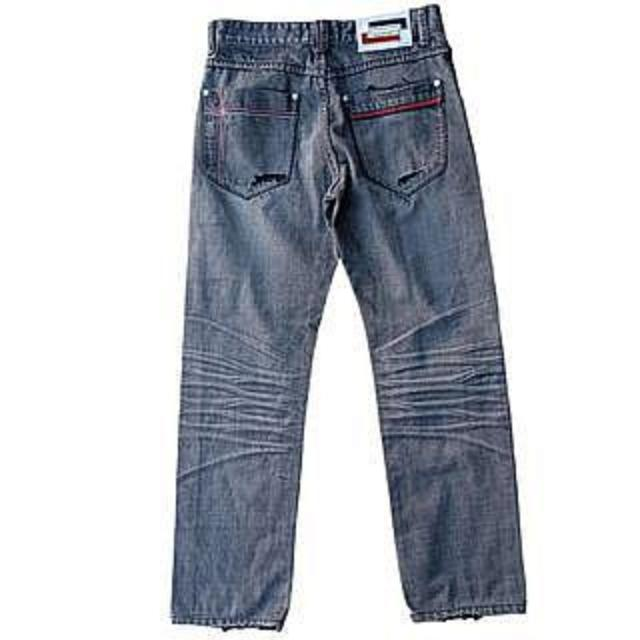TROUSER: (160, 3, 553, 640)
